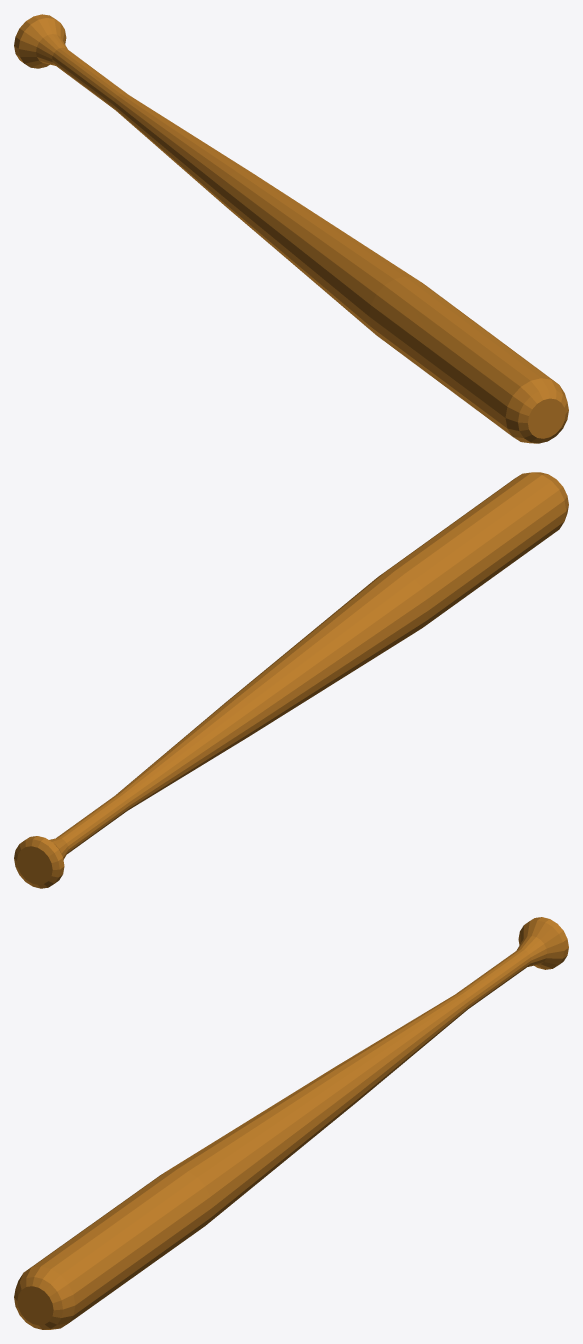
Rendered from bat.obj.
3 views of the same model, one above another, from view 1: azimuth 30°, elevation 25°; view 2: azimuth 150°, elevation 25°; view 3: azimuth 330°, elevation 25° (orthographic). The views are drawn at different scales.
Parts seen in each view (by area): view 1: Bat; view 2: Bat; view 3: Bat.
Part boxes in pixels (x1=…): Bat: x1=14, y1=14, x2=568, y2=443; Bat: x1=14, y1=472, x2=568, y2=888; Bat: x1=14, y1=917, x2=568, y2=1329.
Bounding box in the file's own units: 29.62 × 28.34 × 423.
